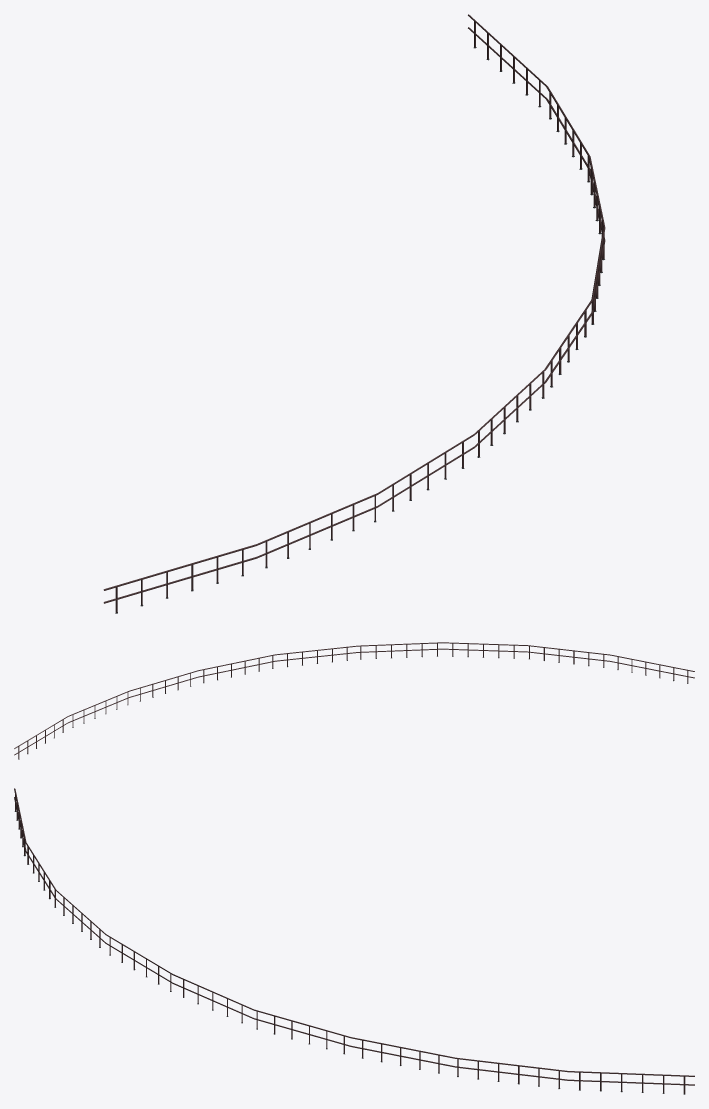
Rendered from SW_ENV_EL_Railing_90dBend_Outer_B.fbx.
3 renders of one model, top to bottom at view 1: azimuth 30°, elevation 25°; view 2: azimuth 150°, elevation 25°; view 3: azimuth 270°, elevation 25°, orthographic. The views are drawn at different scales.
Visible parts, largest first — view 1: SW_ENV_EL_Railing_90dBend_Outer_B; view 2: SW_ENV_EL_Railing_90dBend_Outer_B; view 3: SW_ENV_EL_Railing_90dBend_Outer_B.
Boxes of the visible parts, x1=… form: SW_ENV_EL_Railing_90dBend_Outer_B: x1=103, y1=14, x2=605, y2=613; SW_ENV_EL_Railing_90dBend_Outer_B: x1=14, y1=642, x2=694, y2=759; SW_ENV_EL_Railing_90dBend_Outer_B: x1=14, y1=788, x2=694, y2=1094.
Size of the model in its own units: 32.41 by 0.9954 by 32.41.
